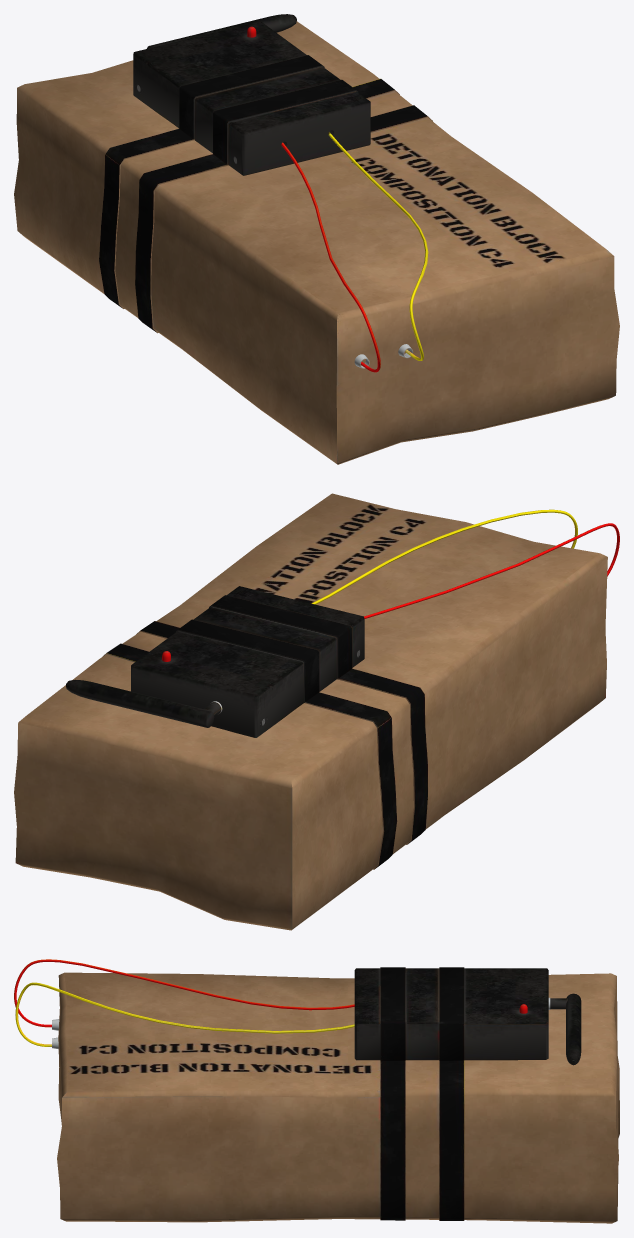
File: bomb.glb
3 views of the same model, one above another, from view 1: azimuth 30°, elevation 25°; view 2: azimuth 150°, elevation 25°; view 3: azimuth 270°, elevation 25° (orthographic). The views are drawn at different scales.
Visible parts, largest first — view 1: 3DModelsCC0_bomb_C4; view 2: 3DModelsCC0_bomb_C4; view 3: 3DModelsCC0_bomb_C4.
Boxes of the visible parts, left/top/right/bottom form: 3DModelsCC0_bomb_C4: left=14, top=14, right=619, bottom=464; 3DModelsCC0_bomb_C4: left=14, top=493, right=619, bottom=930; 3DModelsCC0_bomb_C4: left=14, top=959, right=619, bottom=1223.
Size of the model in its own units: 0.1202 by 0.0824 by 0.25.
1 material, 1 textured.
